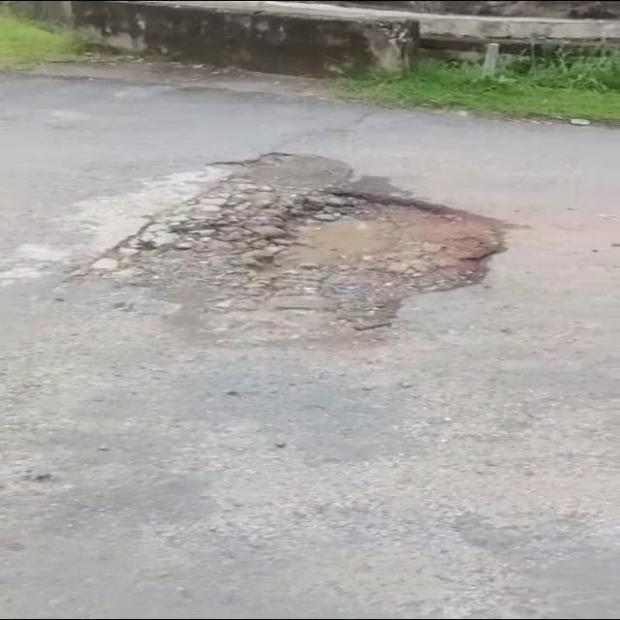lubang: (93, 153, 505, 332)
